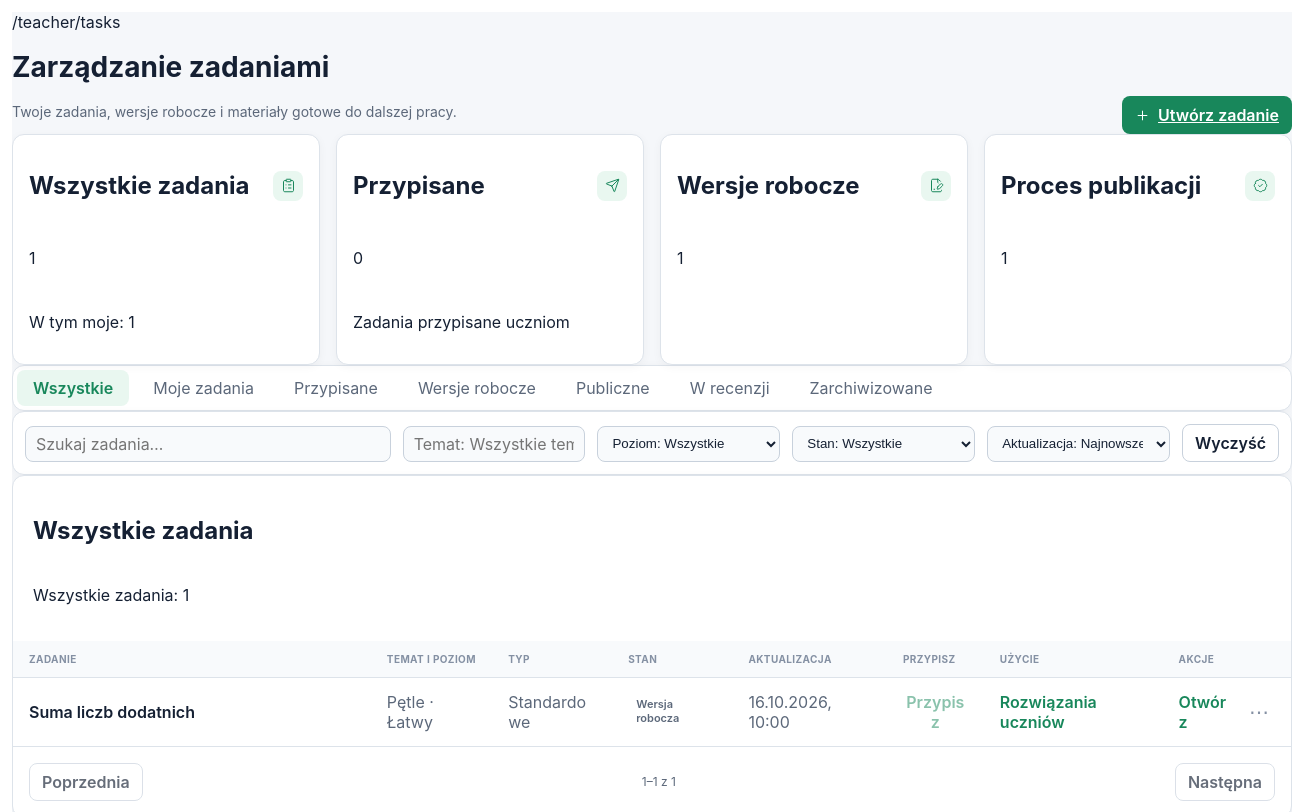
shows a filtered empty state when no tasks have assignments
Expected: the table is shown, [13,641,1291,746]
What coordinates should you click on to do the following:
click the button "Przypisane"
I would click on:
 (336, 388)
Its box is [278,370,394,406].
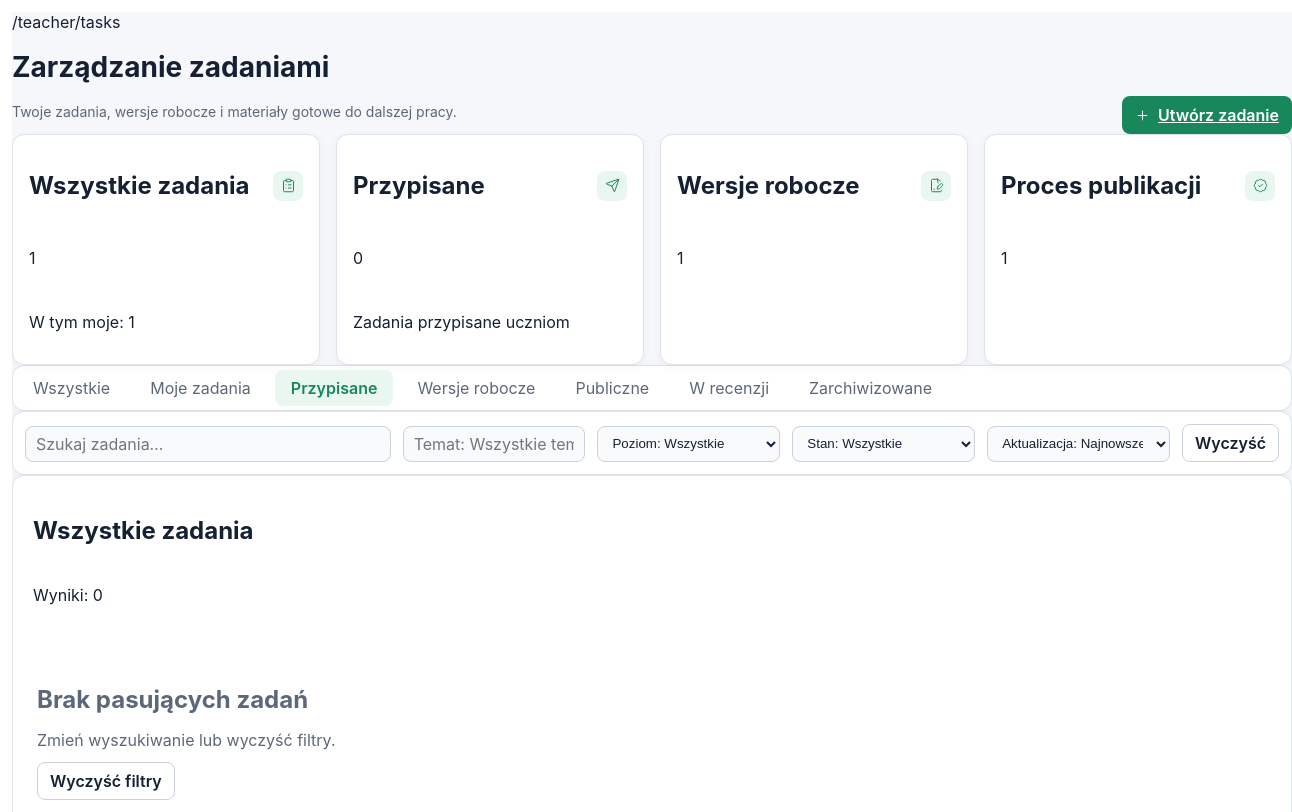
Result: the heading "Brak pasujących zadań" is shown at [37,685,308,714]
What coordinates should you click on to do the following:
click the button "Wyczyść filtry"
I would click on:
 (106, 781)
Its box is [37,762,175,800].
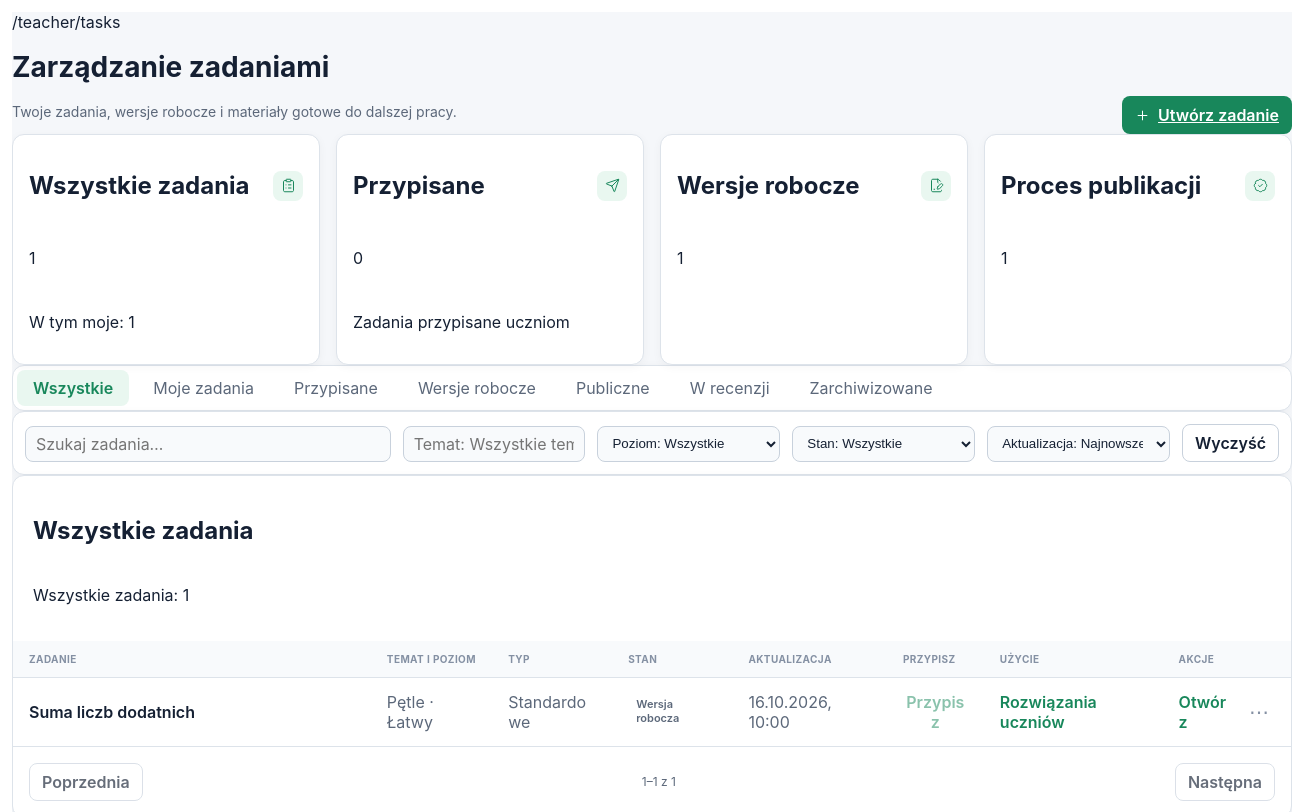
Result: the table is shown at [13,641,1291,746]
